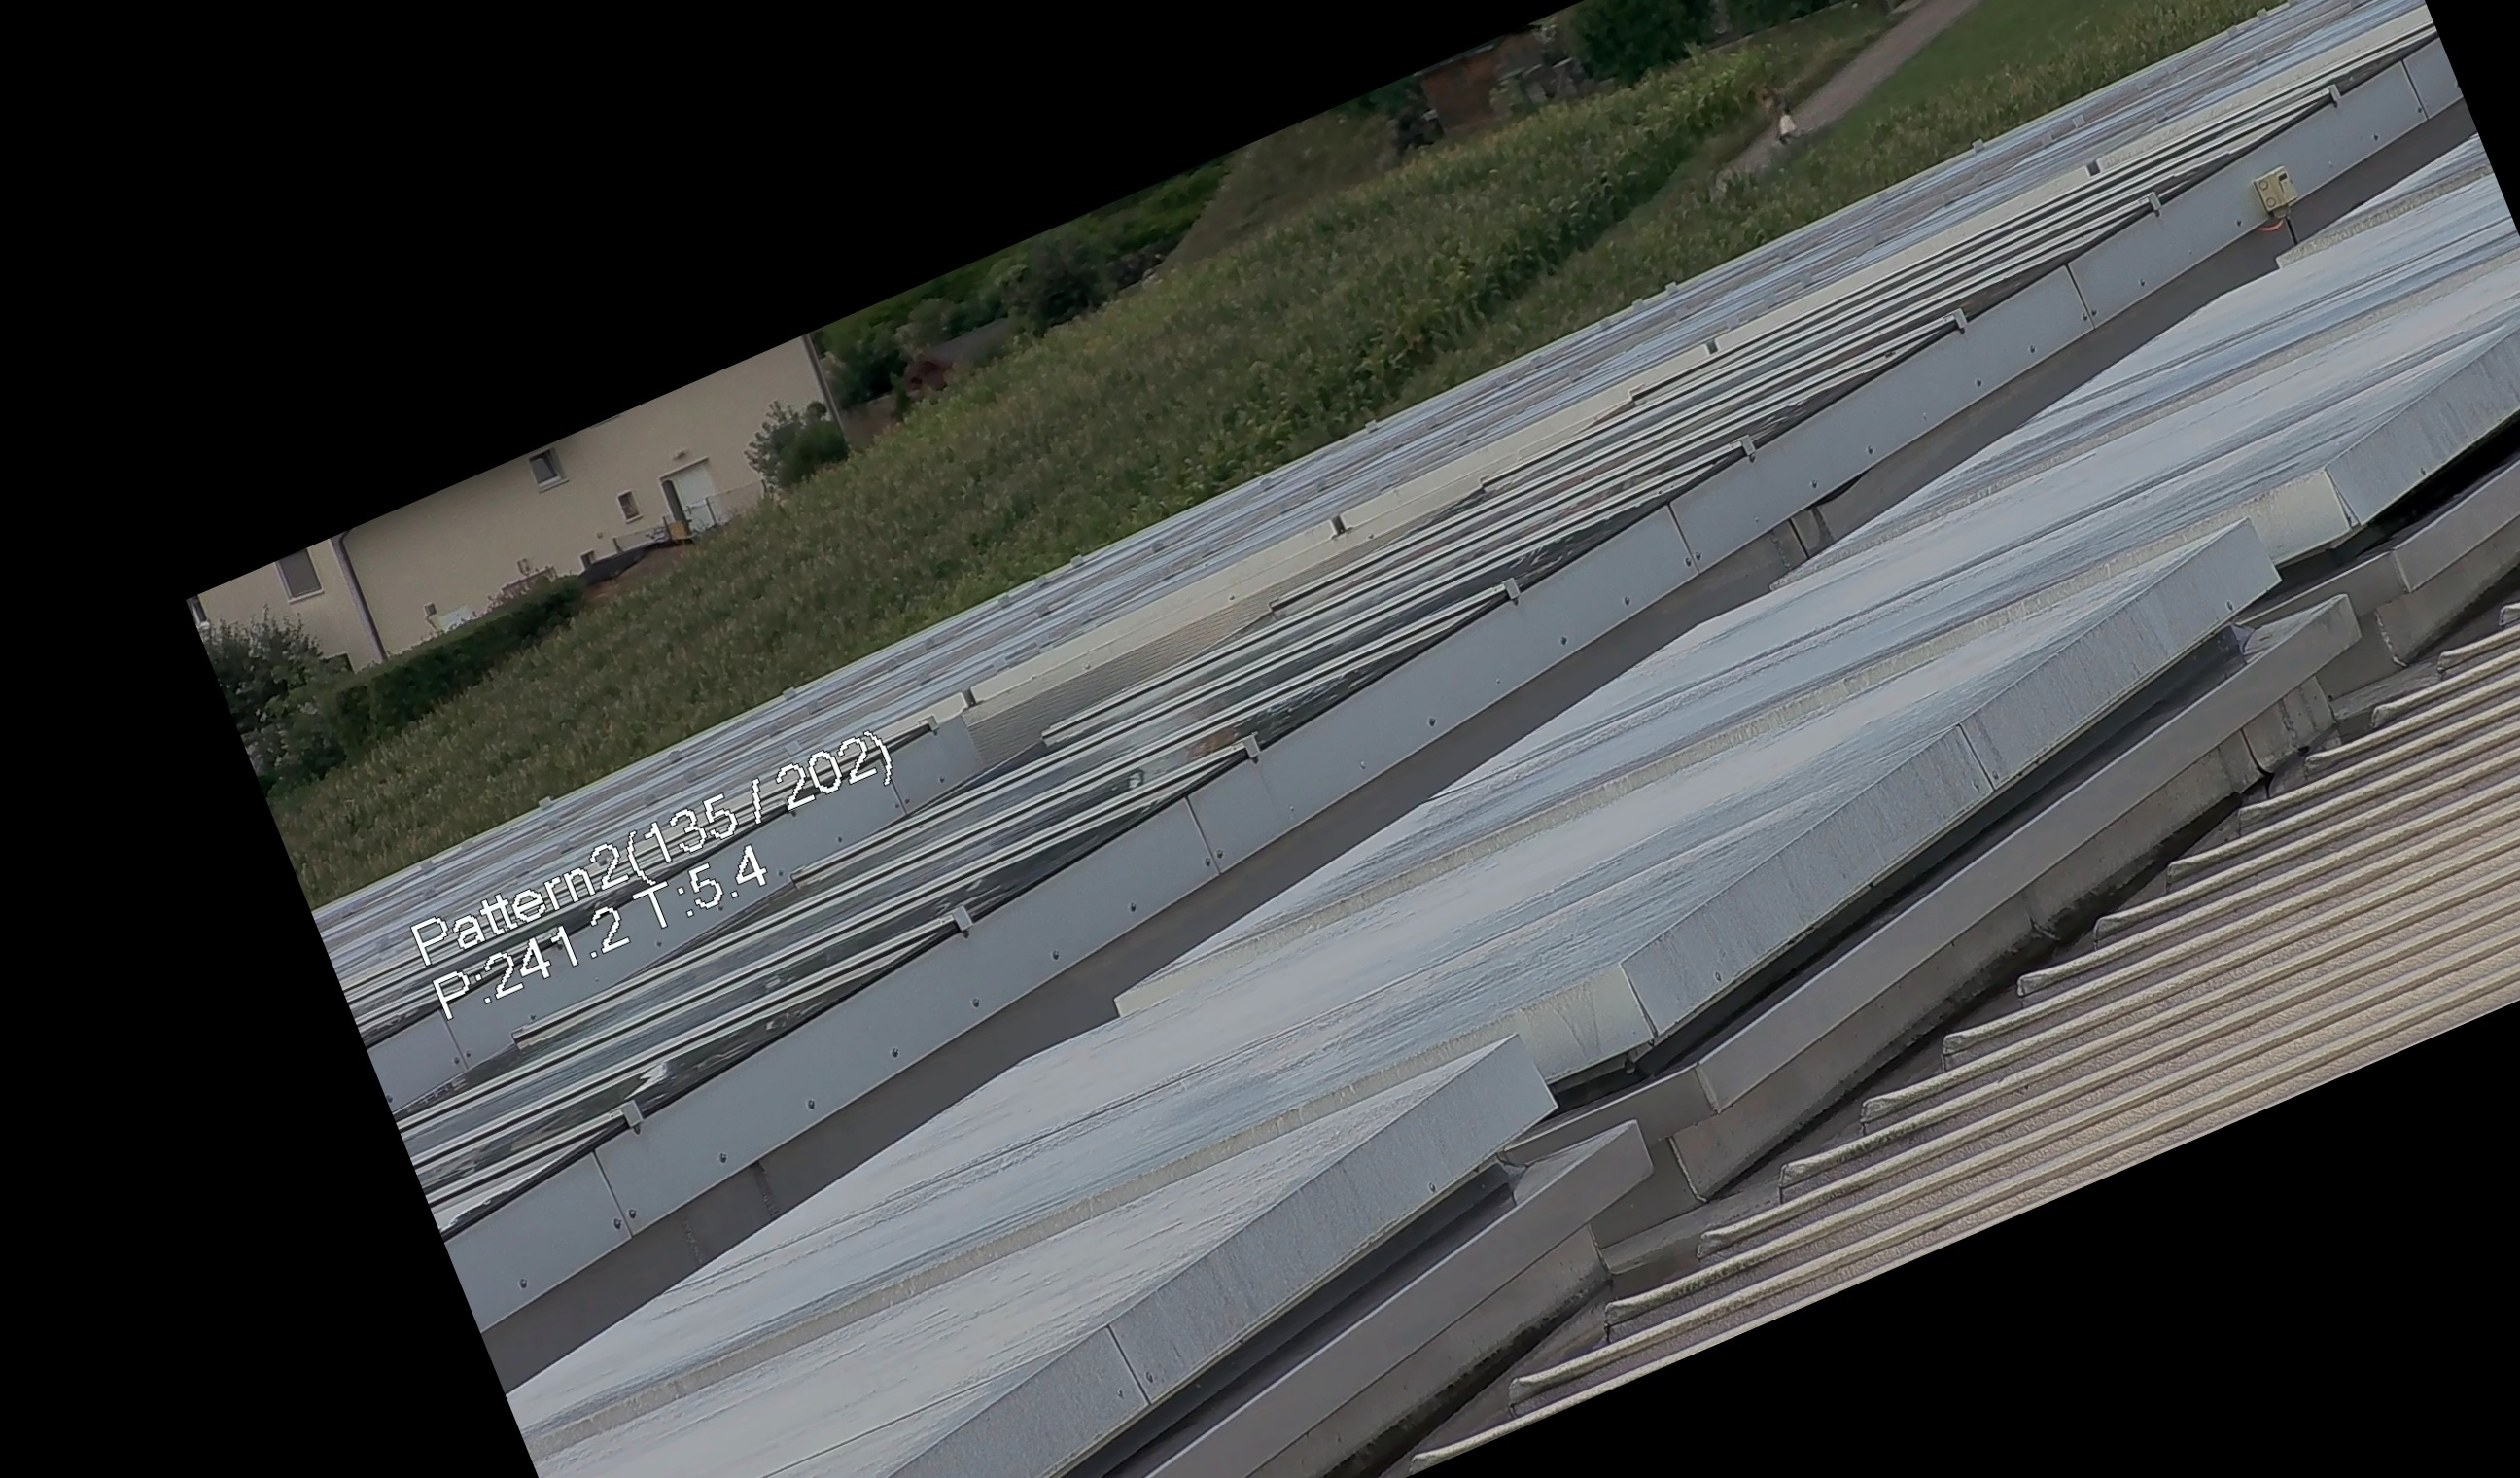Other: (1755, 63, 1824, 148)
